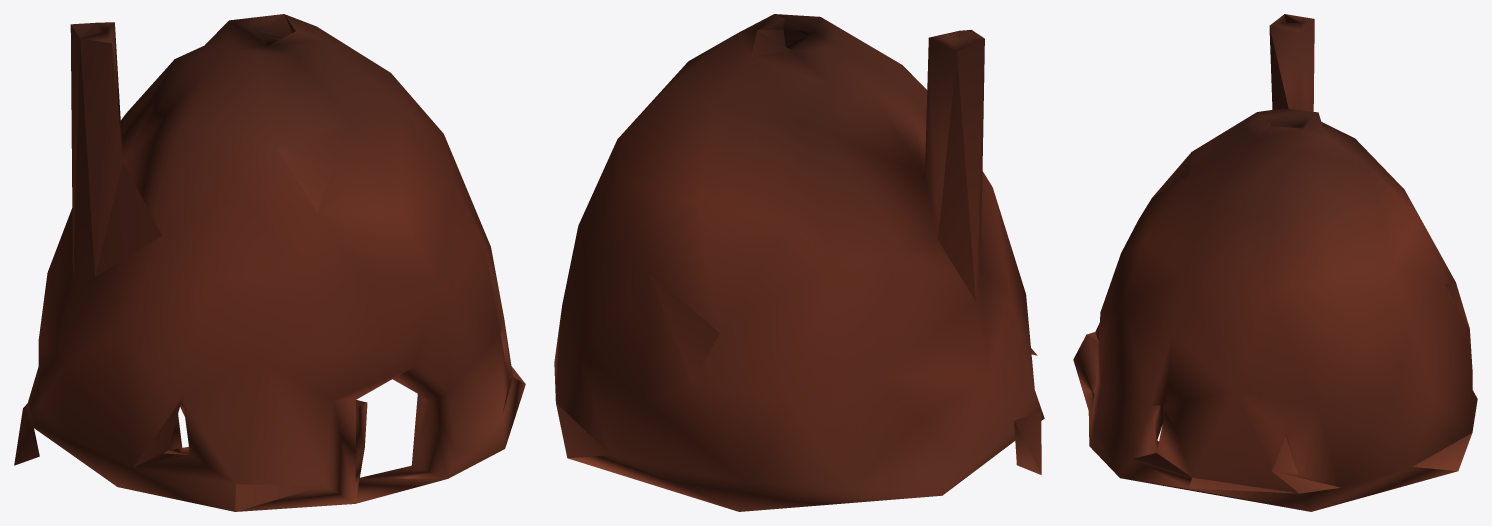
The model's file is kiln_body.glb.
The picture shows the model from 3 angles, left to right: view 1: azimuth 30°, elevation 25°; view 2: azimuth 150°, elevation 25°; view 3: azimuth 270°, elevation 25°; orthographic projection. The views are drawn at different scales.
Visible parts, largest first — view 1: kiln; view 2: kiln; view 3: kiln.
Boxes of the visible parts, x1,y1,x2,y2 form: kiln: [14, 14, 525, 511]; kiln: [554, 14, 1044, 511]; kiln: [1073, 14, 1477, 511].
Size of the model in its own units: 2.38 by 2.02 by 2.18.
